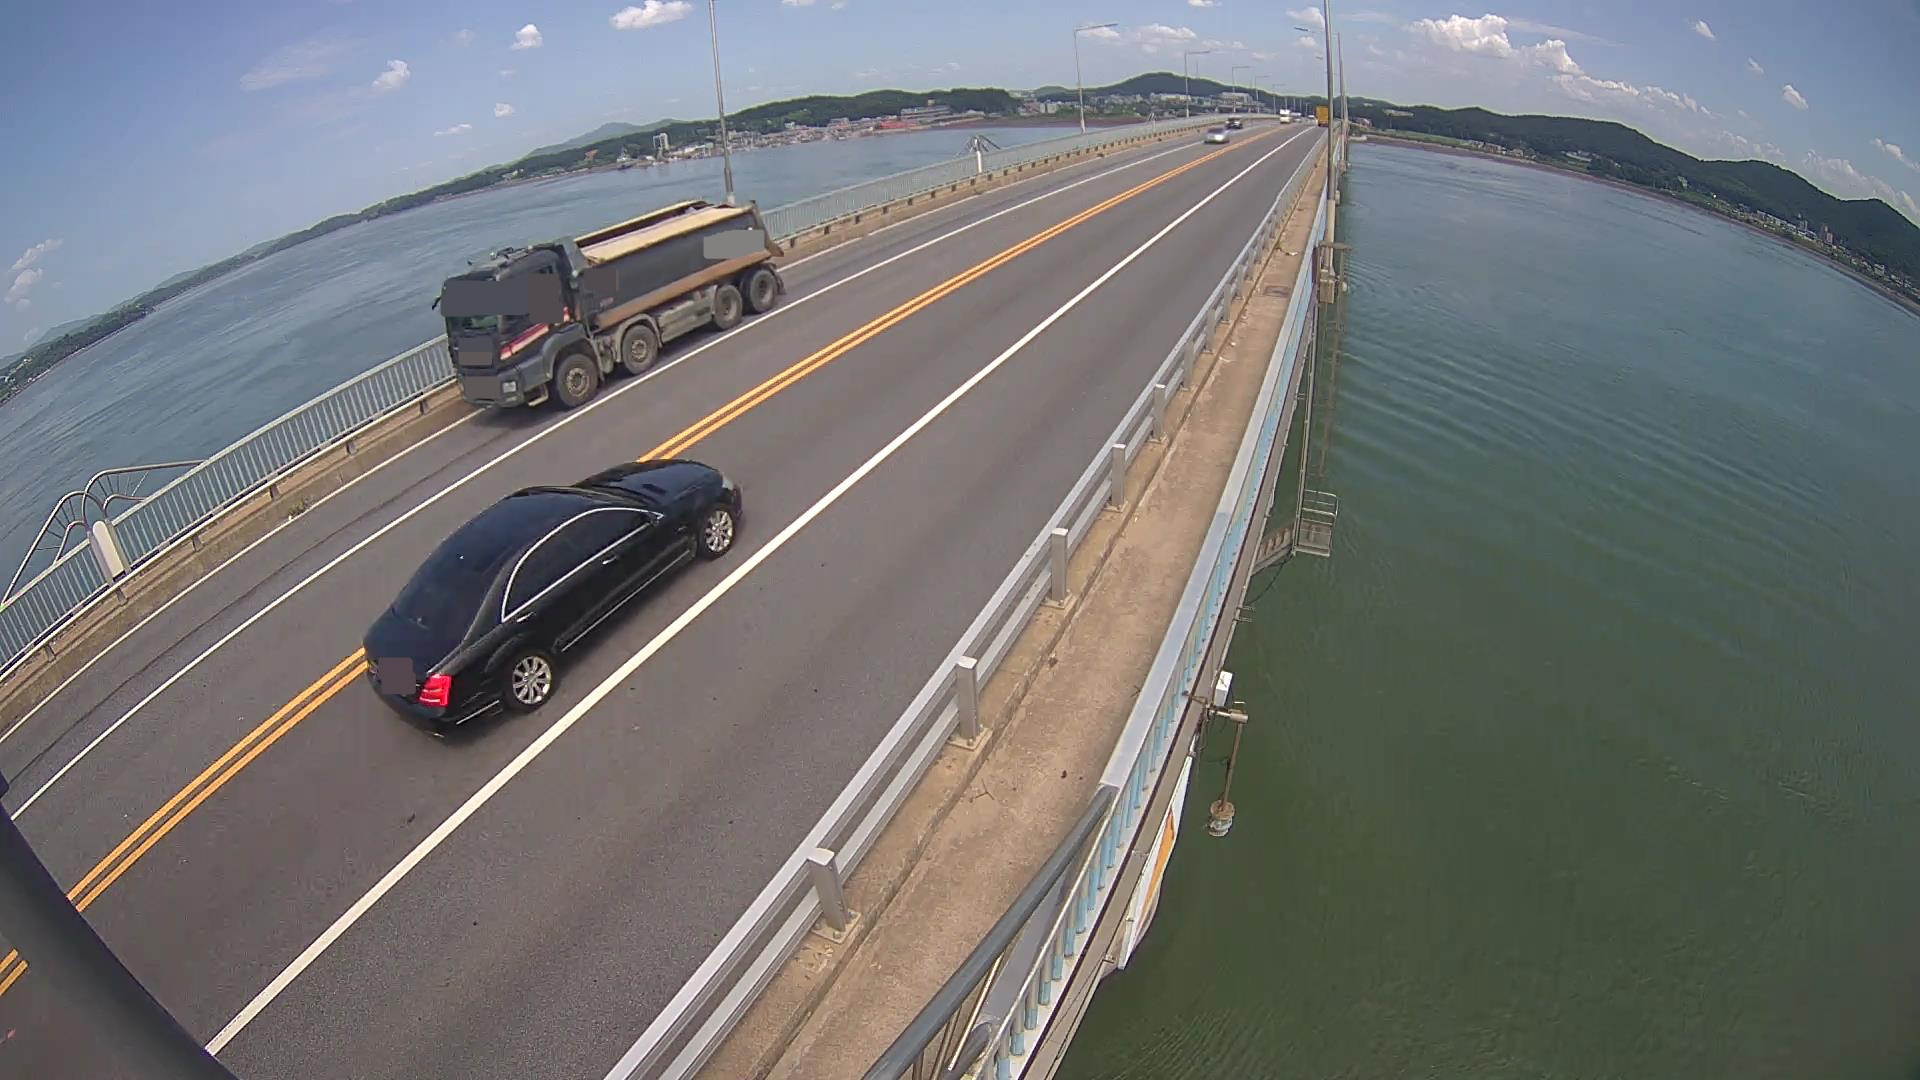정상차량: (432, 198, 788, 407)
